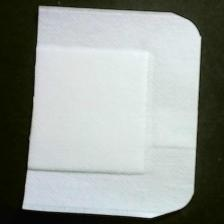Cut: (22, 4, 204, 220)
